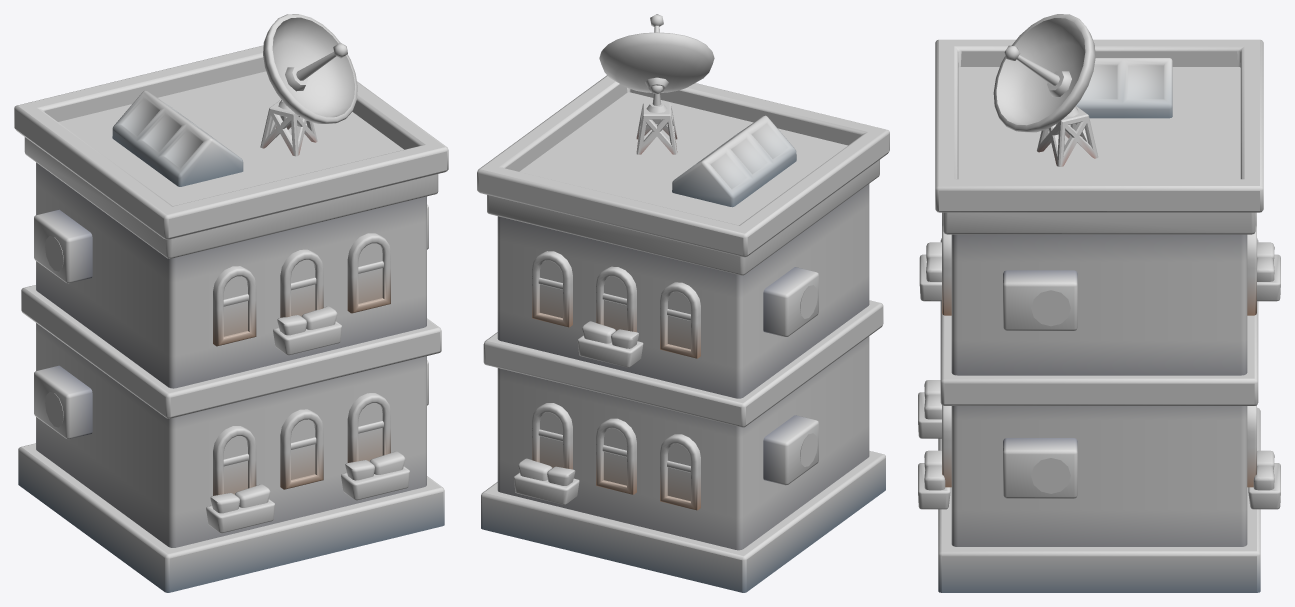
File: NF_Bld_House 47.fbx
3 views of the same model, side by side, from view 1: azimuth 30°, elevation 25°; view 2: azimuth 150°, elevation 25°; view 3: azimuth 270°, elevation 25° (orthographic). The views are drawn at different scales.
Visible parts, largest first — view 1: House_47.001; view 2: House_47.001; view 3: House_47.001.
Part boxes in pixels (<box>): House_47.001: <box>14,14,448,592</box>; House_47.001: <box>477,14,889,592</box>; House_47.001: <box>918,14,1280,592</box>.
Size of the model in its own units: 7.8 by 11.67 by 7.37.
